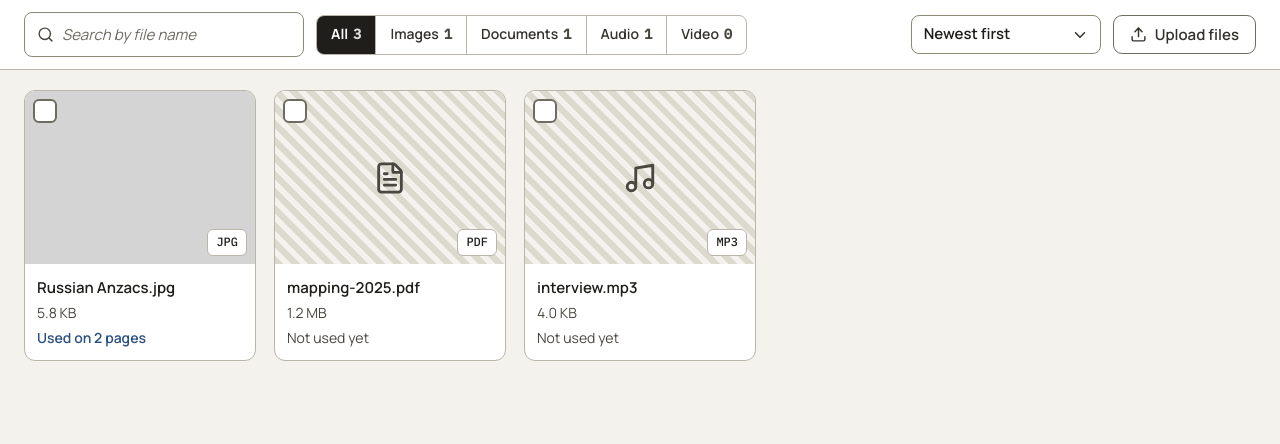
Scenario: MediaBrowser in manage mode › selects files and says how many are in use before deleting
Expected: the link "Russian Anzacs.jpg" is shown, [37,277,175,298]
Click the checkbox named "Select Russian Anzacs.jpg" at (140, 178), box [25,91,255,264]
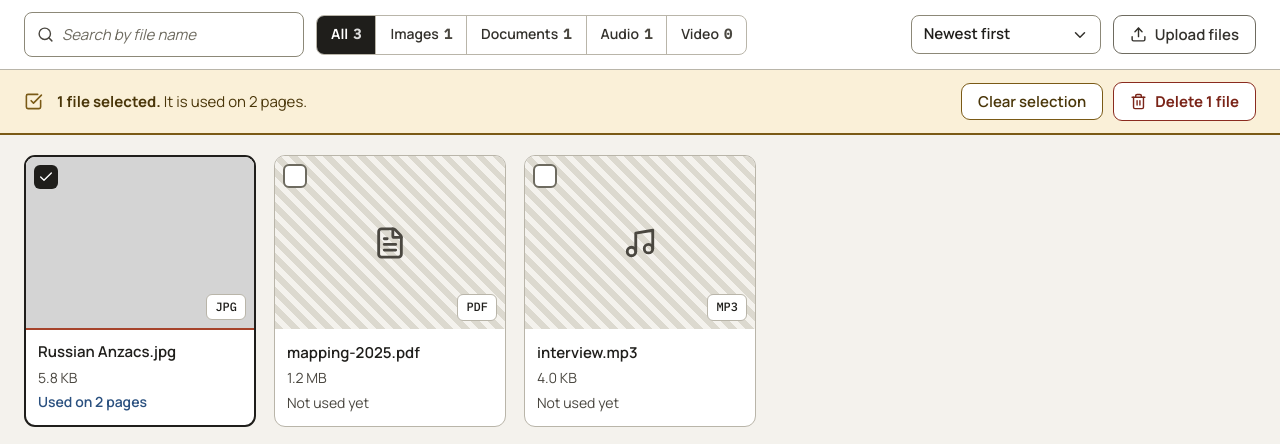
Result: the message shows "1 file selected." at [57,91,161,112]
Result: the message shows "It is used on 2 pages." at [164,91,307,112]
Click the checkbox named "Select mapping-2025.pdf" at (390, 243), box [275,156,505,329]
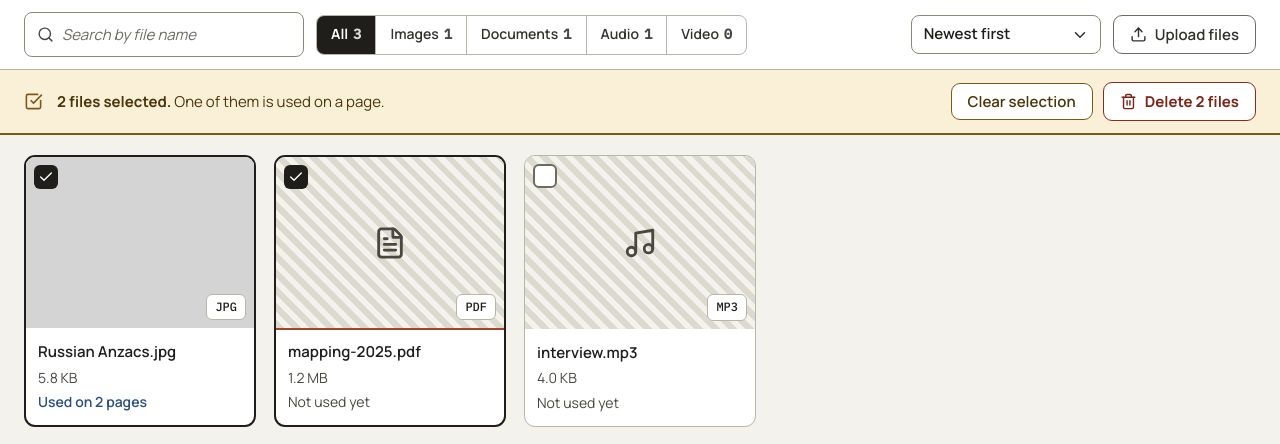
Result: the message shows "2 files selected." at [57,91,171,112]
Result: the message shows "One of them is used on a page." at [174,91,384,112]
Click the button "Clear selection" at (1022, 102), box [950,83,1093,120]
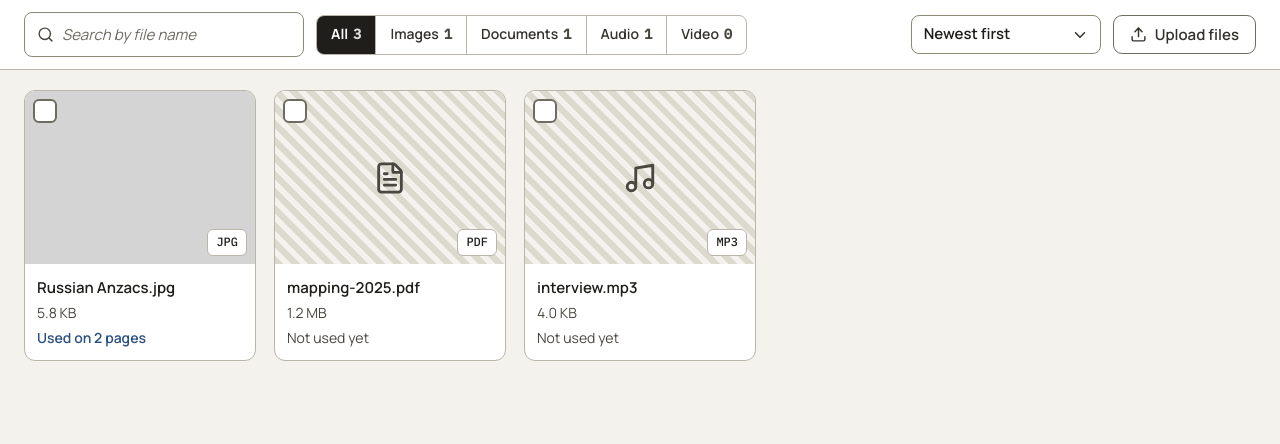
Result: the message "2 files selected. One of them is used on a page. Clear selection Delete 2 files" is gone
